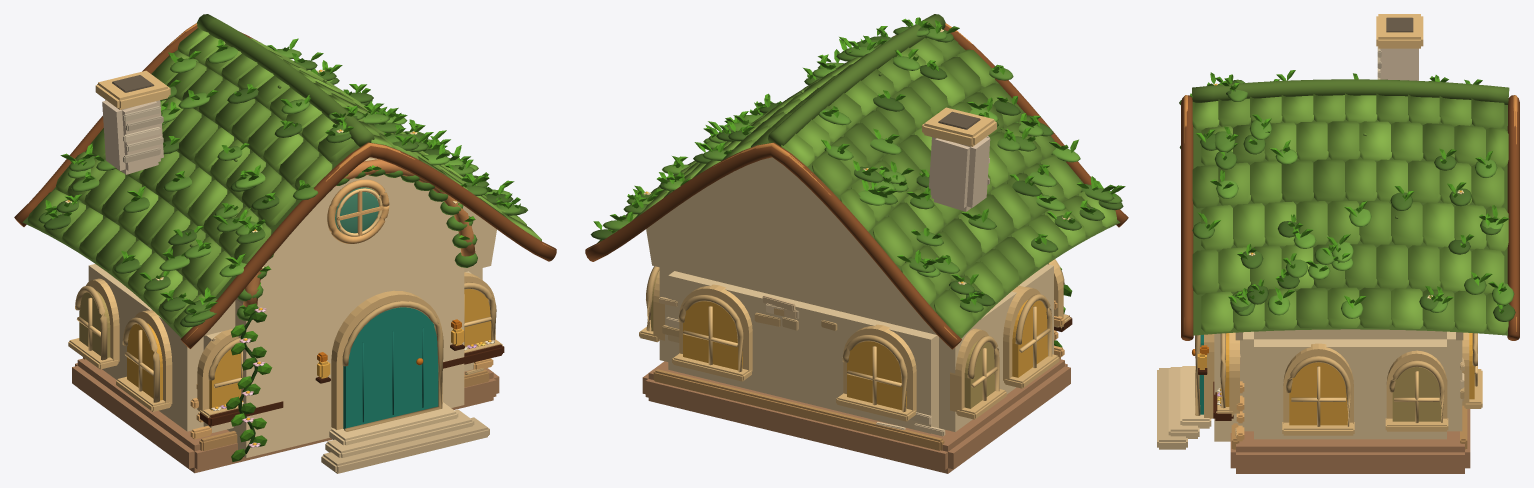
The model's file is cottage-teal-Cu-eHsaL.glb.
The picture shows the model from 3 angles, left to right: view 1: azimuth 30°, elevation 25°; view 2: azimuth 150°, elevation 25°; view 3: azimuth 270°, elevation 25°; orthographic projection. The views are drawn at different scales.
Parts seen in each view (by area): view 1: cottage-teal; view 2: cottage-teal; view 3: cottage-teal.
Boxes of the visible parts, left/top/right/bottom form: cottage-teal: left=14, top=14, right=556, bottom=473; cottage-teal: left=585, top=14, right=1128, bottom=473; cottage-teal: left=1157, top=14, right=1519, bottom=473.
Size of the model in its own units: 6 by 4.95 by 5.05.
